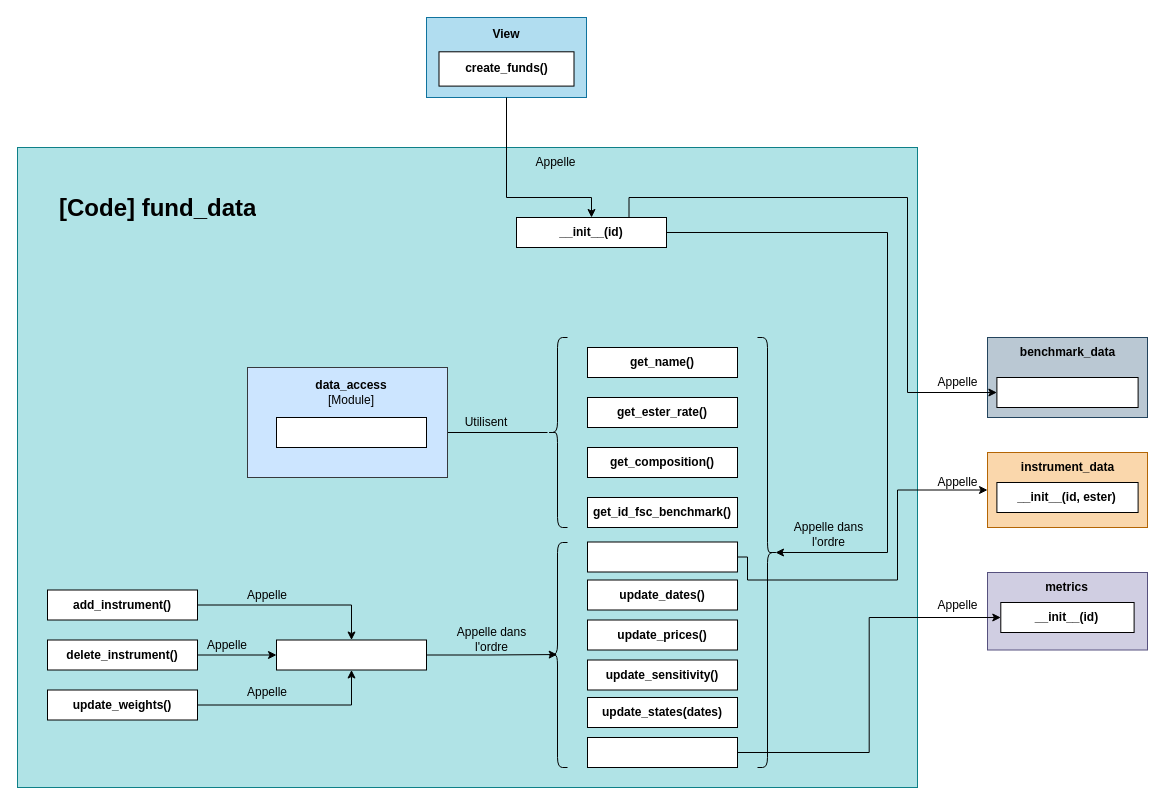
This 1165x805 diagram has some shape labels left out. The shapes that lost their labels are listed below. From the top down, each one's centre as x and y in pixels, then its label:
pixel 1067 392: create(id)
pixel 351 432: load_sql()
pixel 662 556: update_inst_data()
pixel 351 654: update_chain()
pixel 662 752: update_metrics()
